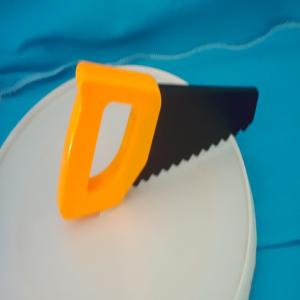serrote: (57, 61, 259, 221)
